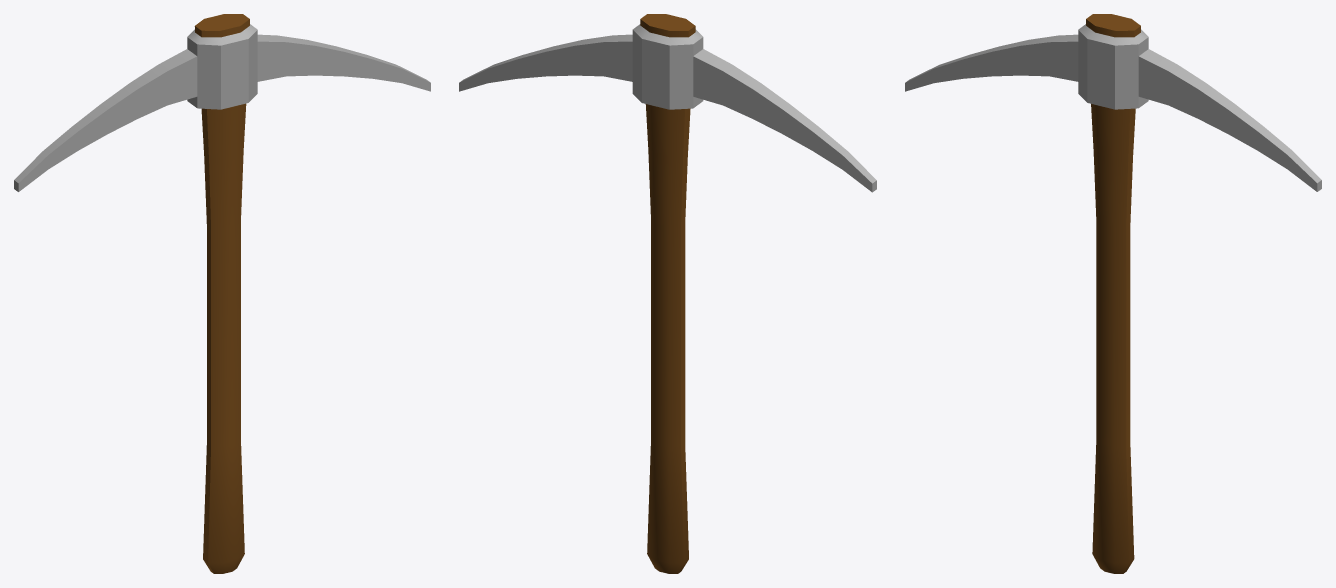
The model's file is PickaxeV1.fbx.
3 views of the same model, side by side, from view 1: azimuth 30°, elevation 25°; view 2: azimuth 150°, elevation 25°; view 3: azimuth 330°, elevation 25° (orthographic).
Visible parts, largest first — view 1: Circle; view 2: Circle; view 3: Circle.
Boxes of the visible parts, left/top/right/bottom form: Circle: left=14, top=14, right=430, bottom=573; Circle: left=459, top=14, right=876, bottom=573; Circle: left=905, top=14, right=1321, bottom=573.
Size of the model in its own units: 2553 by 3236 by 262.
